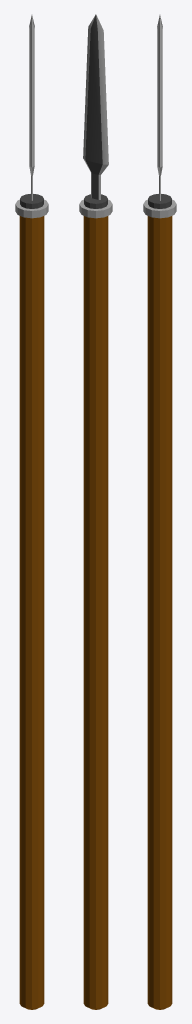
File: Spear_09.fbx
3 renders of one model, left to right at view 1: azimuth 90°, elevation 25°; view 2: azimuth 150°, elevation 25°; view 3: azimuth 270°, elevation 25°, orthographic.
Visible parts, largest first — view 1: Spear_09; view 2: Spear_09; view 3: Spear_09.
Boxes of the visible parts, x1,y1,x2,y2 form: Spear_09: [15, 15, 48, 1009]; Spear_09: [79, 14, 112, 1009]; Spear_09: [143, 15, 176, 1009].
Size of the model in its own units: 0.54 by 17.76 by 0.54.
